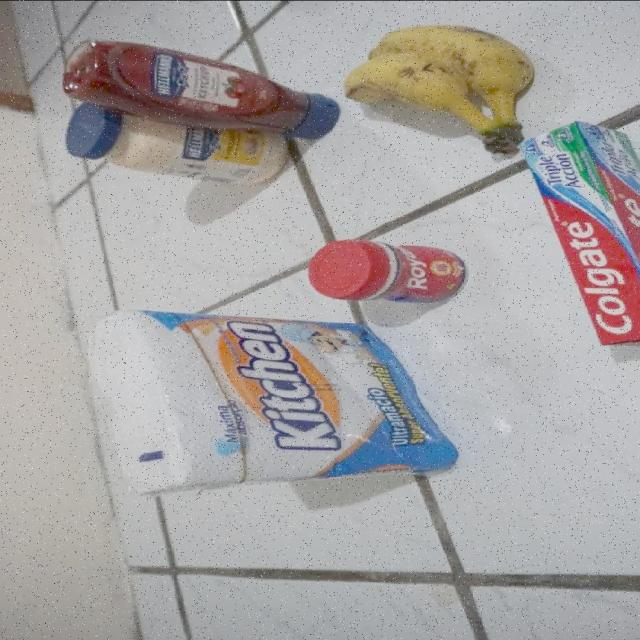Banana: (346, 23, 538, 153)
Ketchup: (61, 37, 340, 139)
Mayonnaise: (64, 106, 294, 186)
Napkin: (87, 308, 460, 494)
Toothpaste: (520, 119, 640, 352)
Yeast: (310, 239, 468, 304)
